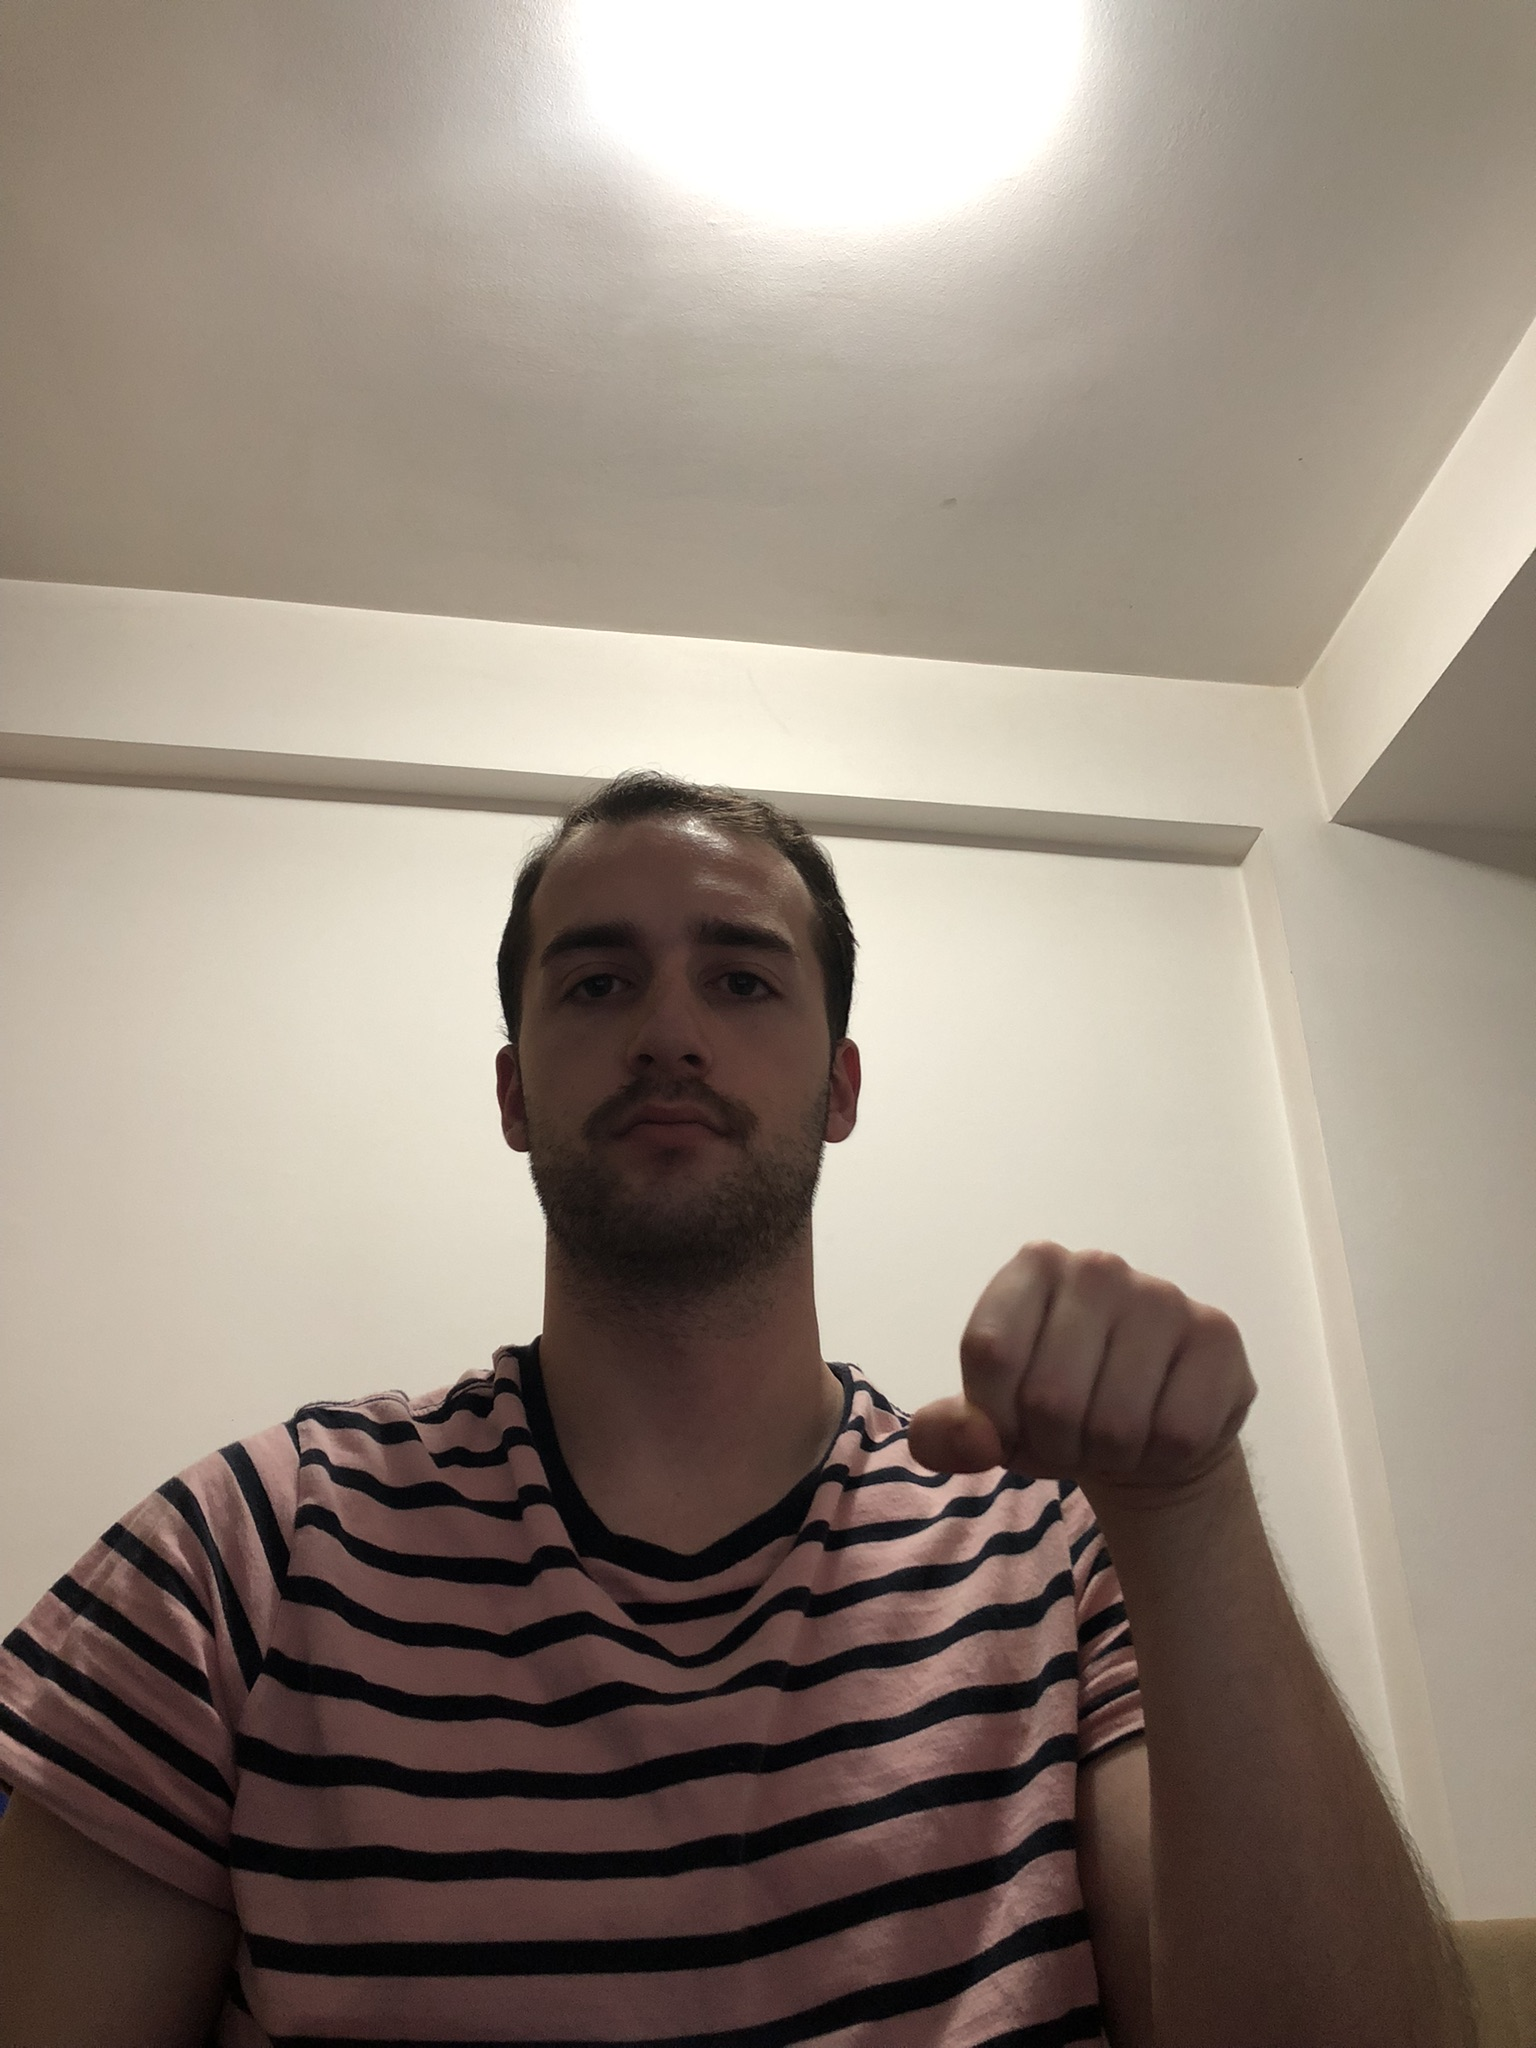Yes: (905, 1240, 1260, 1527)
